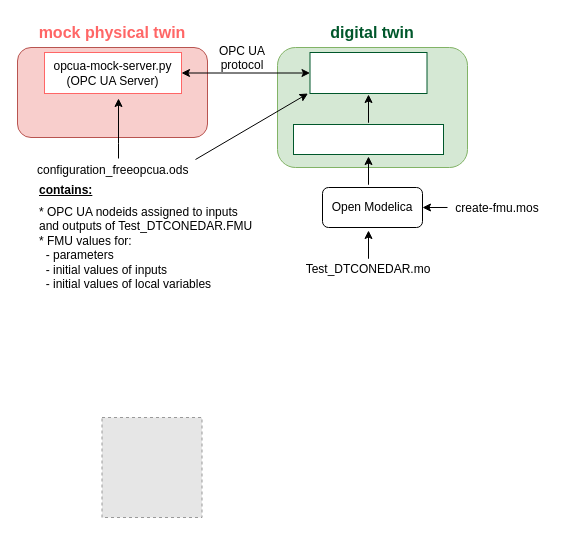
Image size: 565x535. Some labels were removed from this diagram. Grey dashed boxes stand in for pictures. The centre of each missing label's shape, as x and y in pixels:
"client-opcua.py (OPC UA Client)" goes at [368,73].
"Test_DTCONEDAR.fmu" goes at [368,139].
